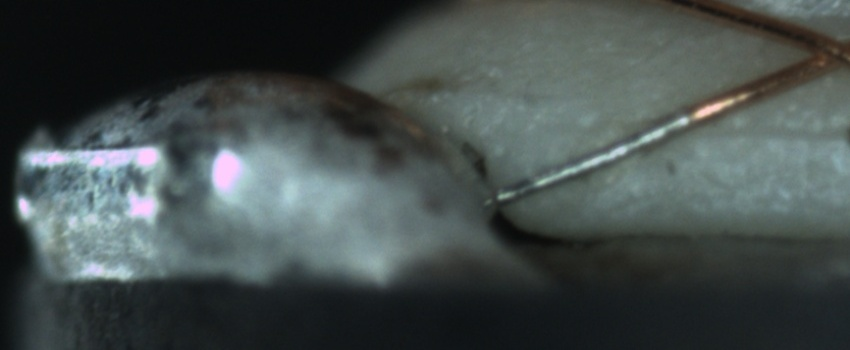CL: (778, 16, 848, 81)
DL: (679, 108, 850, 172)
TS: (491, 111, 693, 203)
TTCW: (479, 86, 745, 212)
